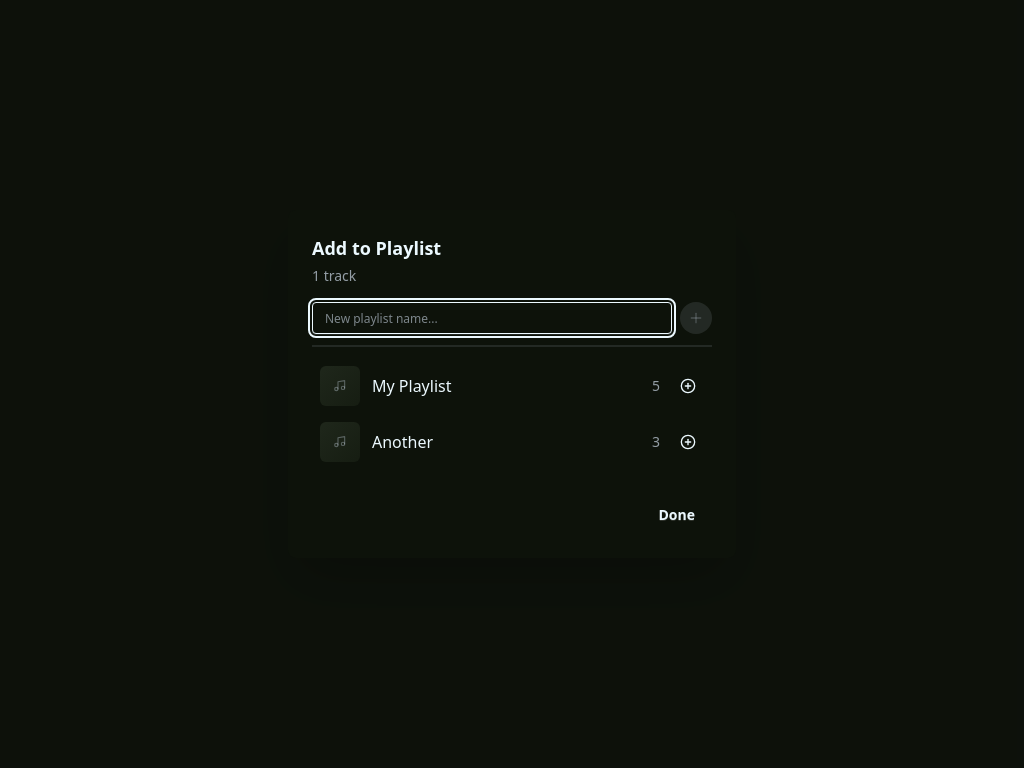
it: AddToPlaylistModal.svelte › error during add shows error status and does not mark as added
Expected: the text "My Playlist" is shown, [372, 375, 452, 397]
What coordinates should you click on to do the following:
click the button named "Add to My Playlist"
I would click on:
 (688, 386)
Its box is [672, 370, 704, 402].
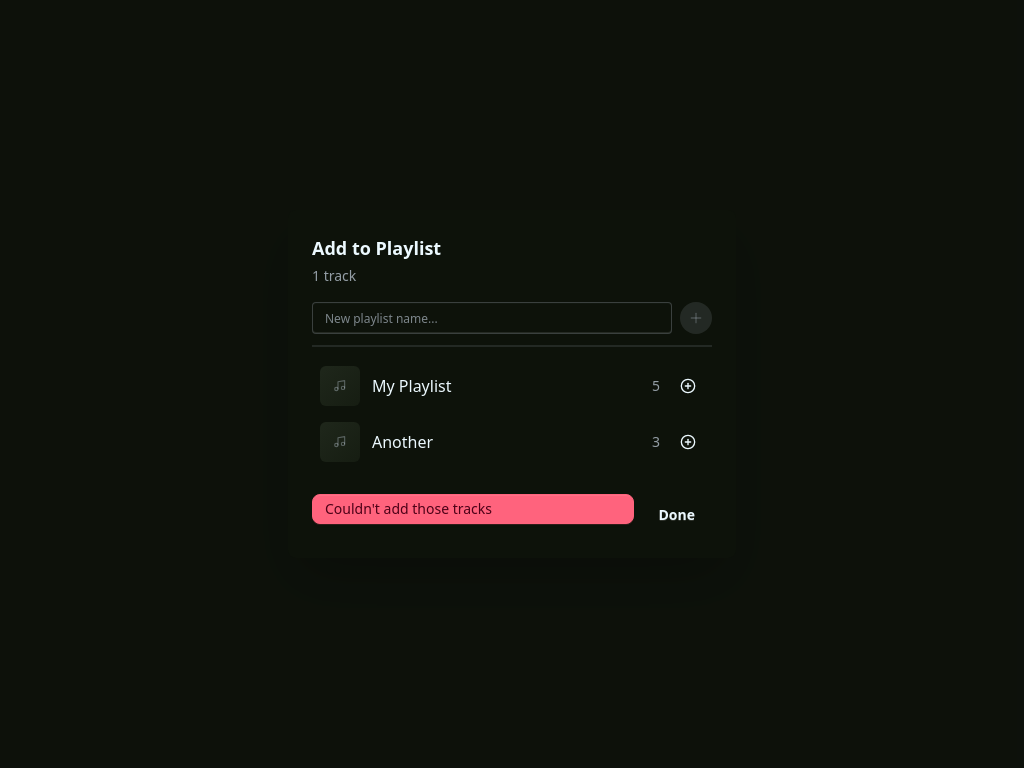
Now the text "Couldn't add those tracks" is shown, box [325, 499, 492, 519]
